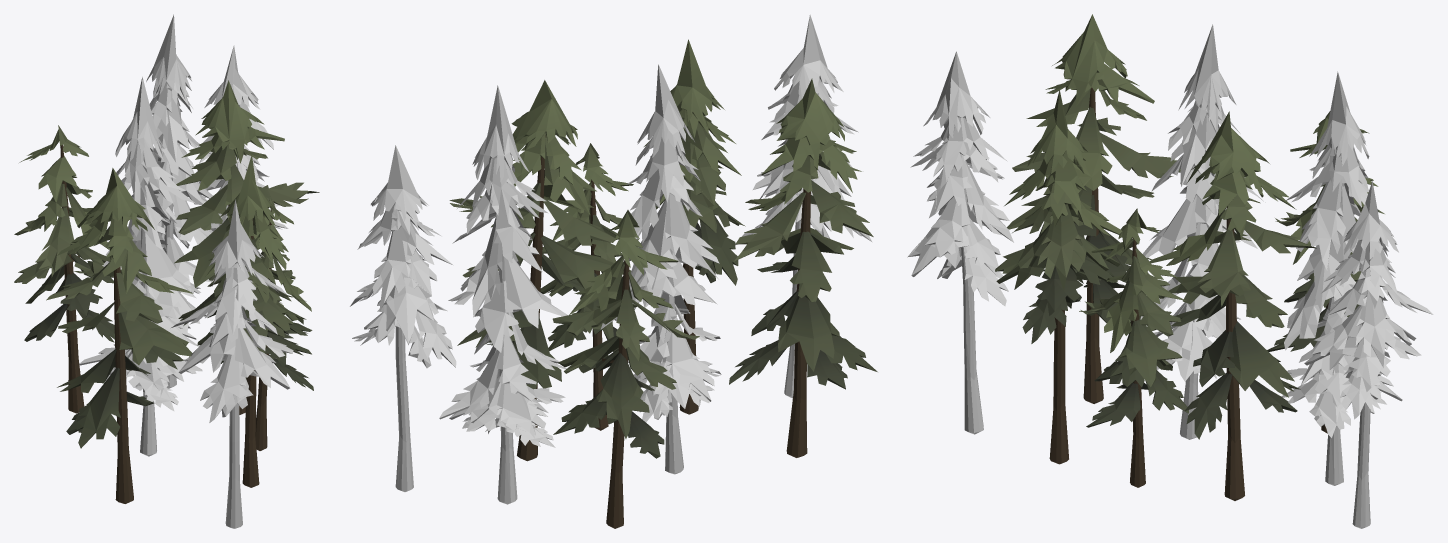
File: SM_Env_Tree_Pine_Group_01.fbx
3 renders of one model, left to right at view 1: azimuth 30°, elevation 25°; view 2: azimuth 150°, elevation 25°; view 3: azimuth 270°, elevation 25°, orthographic. The views are drawn at different scales.
Parts seen in each view (by area): view 1: SM_Env_Tree_Pine_Group_01; view 2: SM_Env_Tree_Pine_Group_01; view 3: SM_Env_Tree_Pine_Group_01.
Boxes of the visible parts, bbox=[...] form: SM_Env_Tree_Pine_Group_01: bbox=[14, 14, 319, 528]; SM_Env_Tree_Pine_Group_01: bbox=[350, 14, 877, 528]; SM_Env_Tree_Pine_Group_01: bbox=[907, 14, 1433, 528].
Size of the model in its own units: 1368 by 1378 by 1568.
